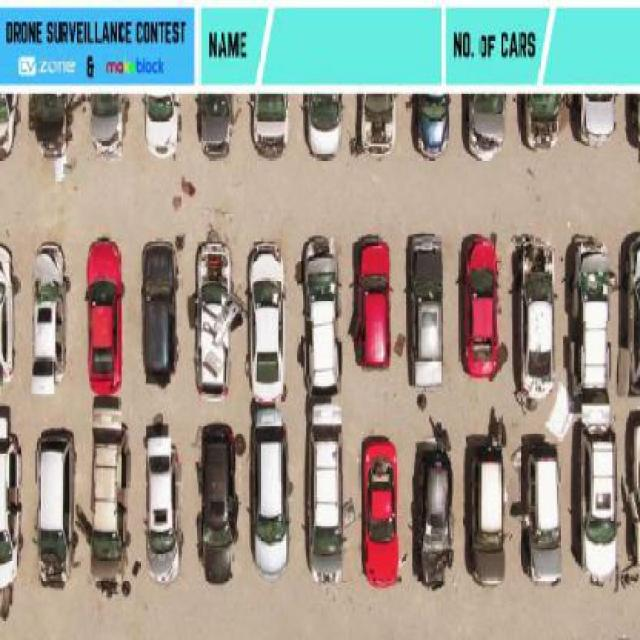bus: (88, 404, 126, 563)
car: (80, 234, 131, 397), (297, 234, 347, 399), (243, 236, 292, 404), (566, 228, 613, 400), (304, 399, 348, 580), (454, 229, 506, 380), (572, 420, 619, 586), (403, 232, 451, 389), (30, 425, 76, 586), (356, 430, 404, 584), (195, 416, 239, 584), (346, 229, 396, 368), (139, 411, 186, 558), (514, 240, 558, 394), (136, 239, 184, 379), (192, 239, 234, 398), (252, 405, 290, 580), (523, 450, 569, 584), (29, 247, 70, 397), (472, 443, 511, 591), (420, 448, 453, 590), (0, 439, 23, 583), (408, 88, 454, 158), (463, 94, 508, 164), (299, 91, 346, 158), (244, 90, 290, 158), (30, 93, 76, 157), (570, 91, 620, 145), (356, 92, 399, 154), (624, 229, 640, 394), (201, 91, 237, 160), (146, 90, 184, 155), (522, 94, 561, 150), (89, 94, 121, 152), (0, 90, 25, 162), (625, 97, 640, 151)
